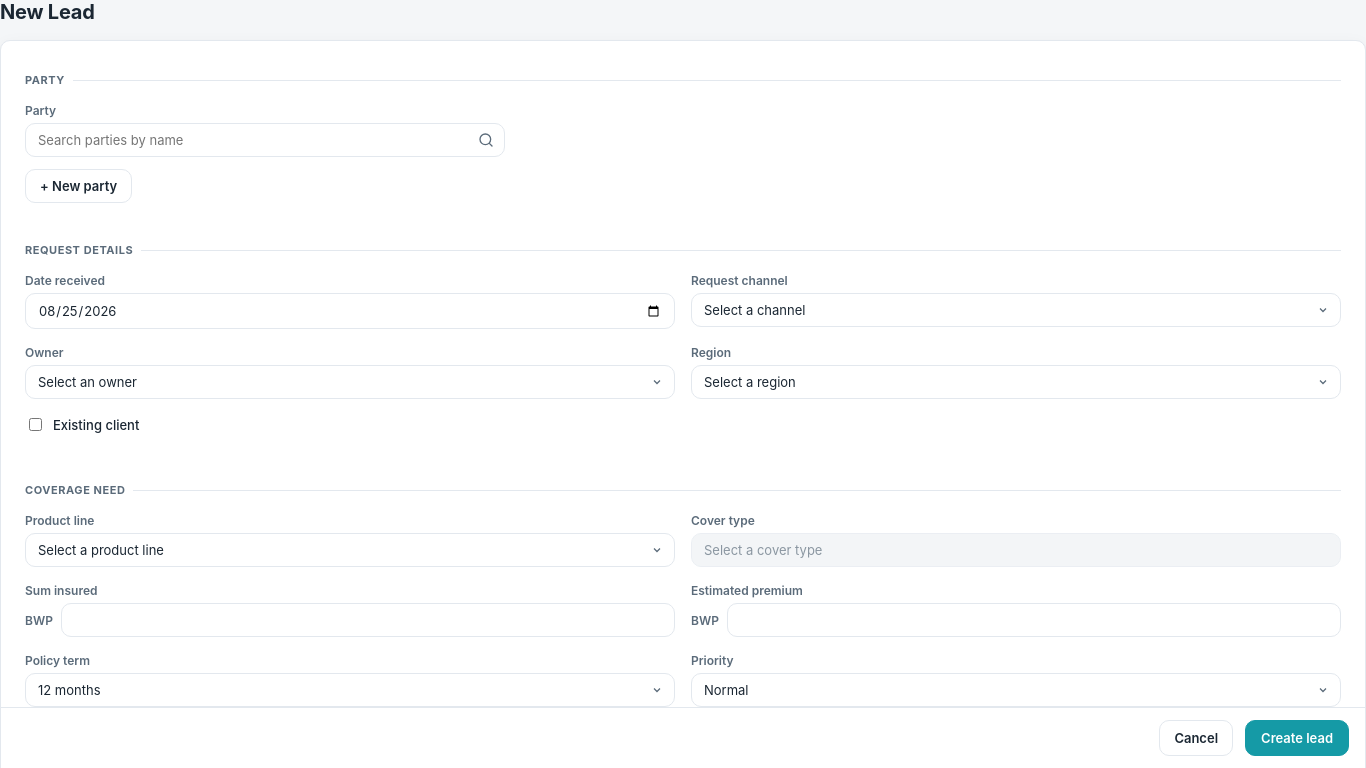
Test: LeadFormPage › submit_WhenRequiredFieldsMissing_ShouldShowThreeOrMoreErrorsSummaryBanner
Expected: the dropdown labelled "Request channel" is shown, x1=691 y1=293 x2=1341 y2=327
Click the button "Create lead" at (1297, 738), box x1=1245 y1=720 x2=1349 y2=756
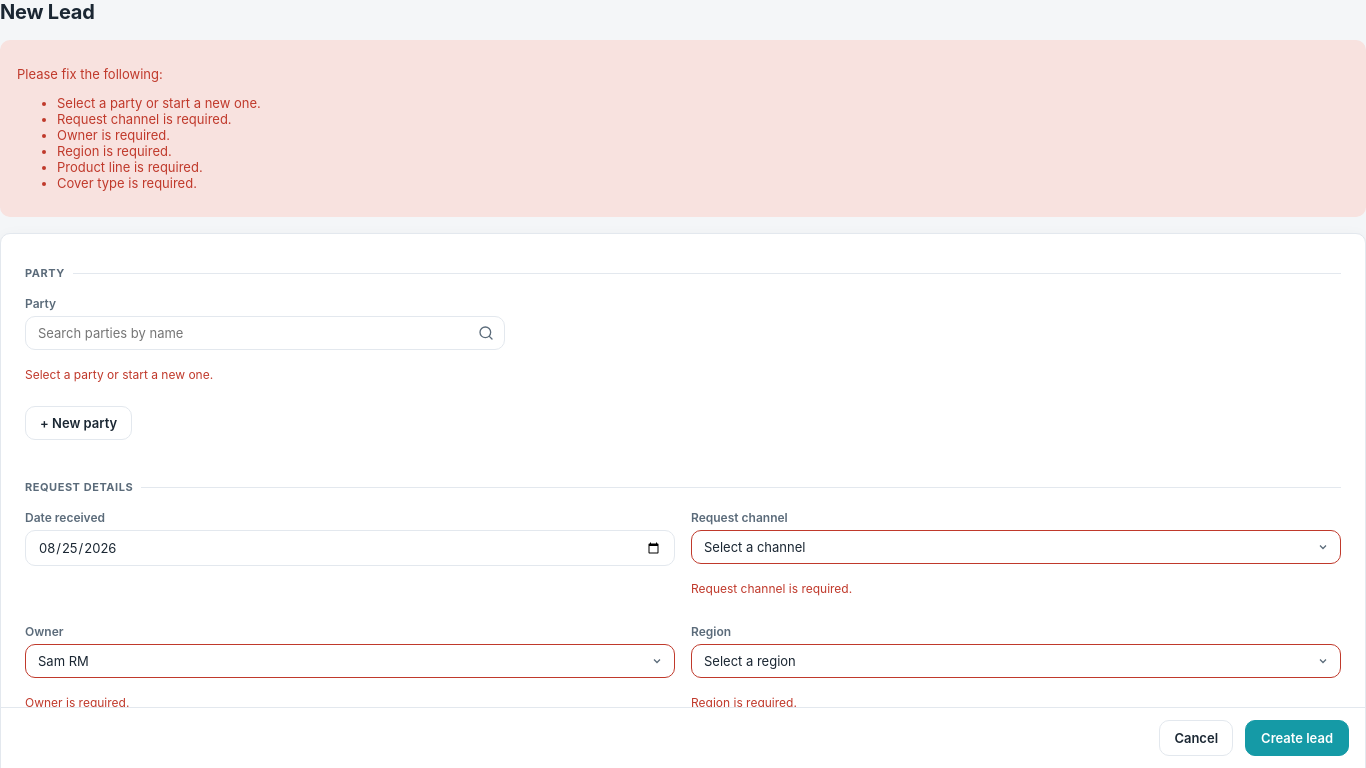
Expected: the message with test id "form-error-summary" is shown, x1=0 y1=40 x2=1365 y2=217
